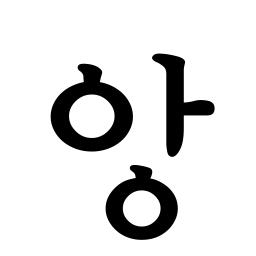Gaji: (155, 87, 199, 129)
